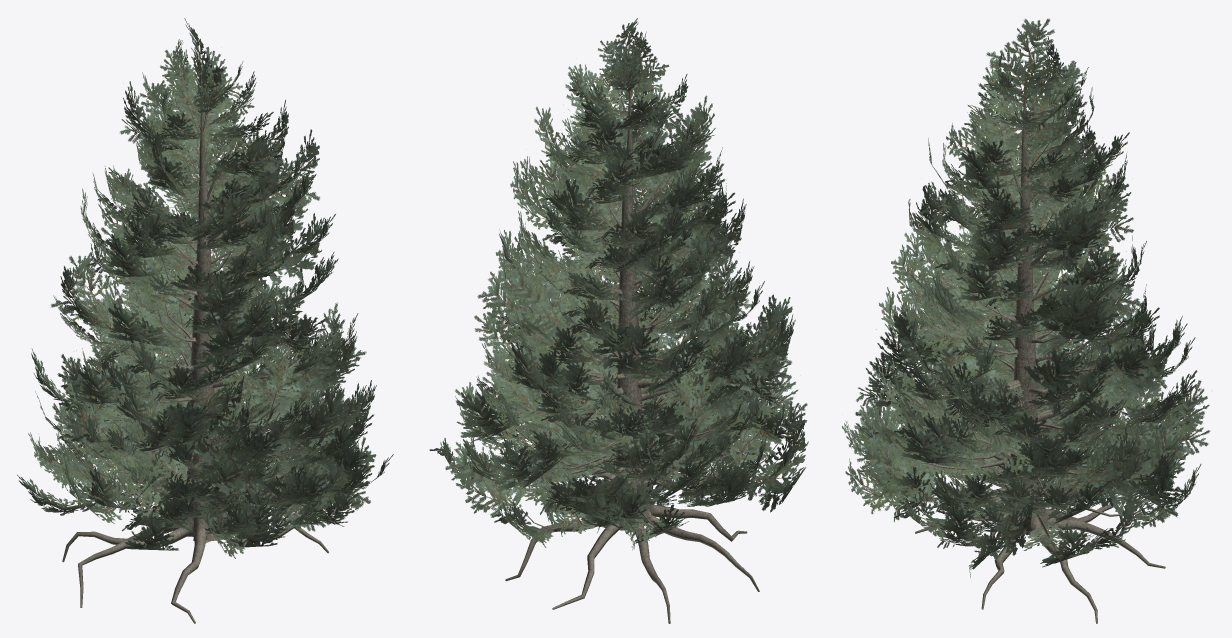
Rendered from s_fir.glb.
The picture shows the model from 3 angles, left to right: view 1: azimuth 30°, elevation 25°; view 2: azimuth 150°, elevation 25°; view 3: azimuth 270°, elevation 25°; orthographic projection.
Visible parts, largest first — view 1: Fir01_LOD0_M_Branch.007_0, Fir01_LOD0_M_Bark.007_0; view 2: Fir01_LOD0_M_Branch.007_0, Fir01_LOD0_M_Bark.007_0; view 3: Fir01_LOD0_M_Branch.007_0, Fir01_LOD0_M_Bark.007_0.
Boxes of the visible parts, x1,y1,x2,y2 form: Fir01_LOD0_M_Branch.007_0: [17, 18, 393, 558]; Fir01_LOD0_M_Bark.007_0: [62, 64, 332, 623]; Fir01_LOD0_M_Branch.007_0: [429, 18, 808, 550]; Fir01_LOD0_M_Bark.007_0: [485, 54, 778, 623]; Fir01_LOD0_M_Branch.007_0: [842, 18, 1210, 577]; Fir01_LOD0_M_Bark.007_0: [898, 60, 1166, 623].
Bounding box in the file's own units: 8.68 × 13.42 × 8.15.
2 materials, 2 textured.
